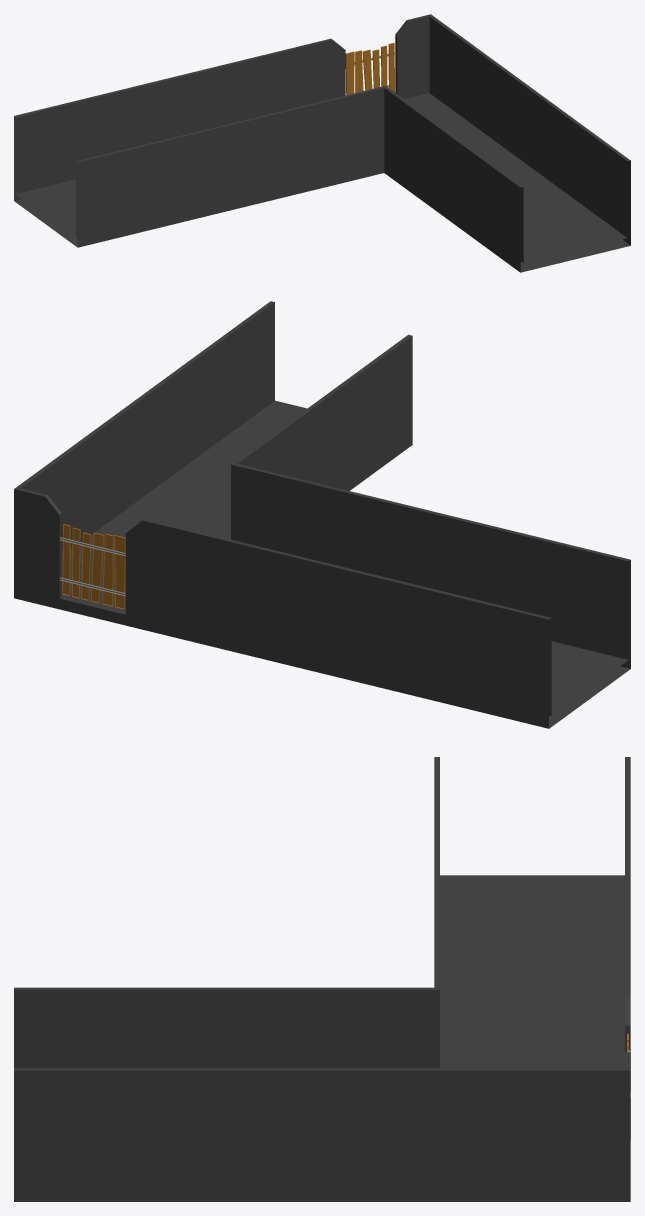
Rendered from L_shape_street.fbx.
The picture shows the model from 3 angles, top to bottom: view 1: azimuth 30°, elevation 25°; view 2: azimuth 150°, elevation 25°; view 3: azimuth 270°, elevation 25°; orthographic projection. The views are drawn at different scales.
Visible parts, largest first — view 1: L_shape_street; view 2: L_shape_street; view 3: L_shape_street.
Part boxes in pixels (bbox=[...]): L_shape_street: bbox=[14, 14, 630, 272]; L_shape_street: bbox=[14, 301, 630, 728]; L_shape_street: bbox=[14, 757, 630, 1201].
Size of the model in its own units: 1818 by 355 by 1511.
